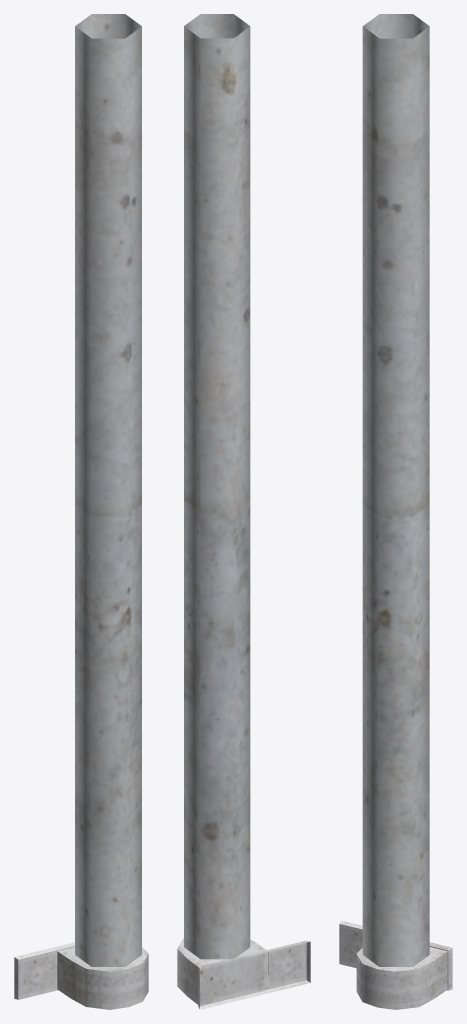
Rendered from SM_Wires_Pipes_01xx.glb.
3 views of the same model, side by side, from view 1: azimuth 30°, elevation 25°; view 2: azimuth 210°, elevation 25°; view 3: azimuth 330°, elevation 25° (orthographic).
Parts seen in each view (by area): view 1: SM_Wires_Pipes_01xx; view 2: SM_Wires_Pipes_01xx; view 3: SM_Wires_Pipes_01xx.
Part boxes in pixels (x1,y1,x2,y2): SM_Wires_Pipes_01xx: (14,14,148,1009); SM_Wires_Pipes_01xx: (177,14,310,1009); SM_Wires_Pipes_01xx: (339,14,452,1009).
Size of the model in its own units: 0.0605 by 0.5027 by 0.0367.
Materials: 1 (1 with a texture image).
